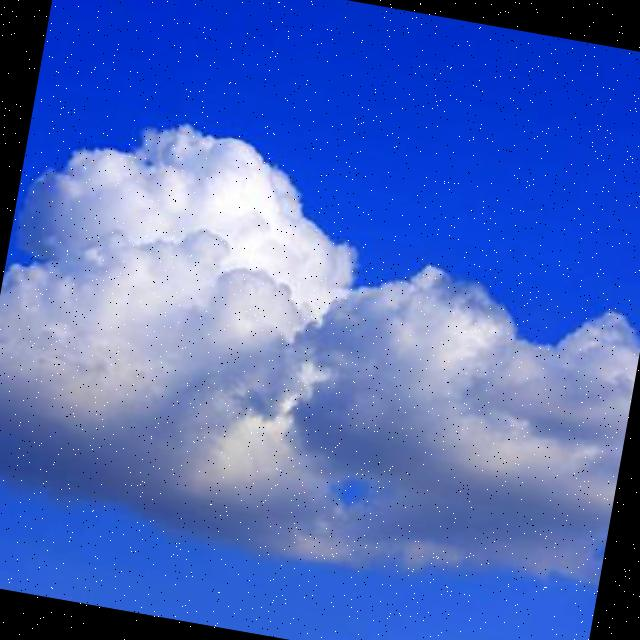Cu: (1, 90, 640, 609)
